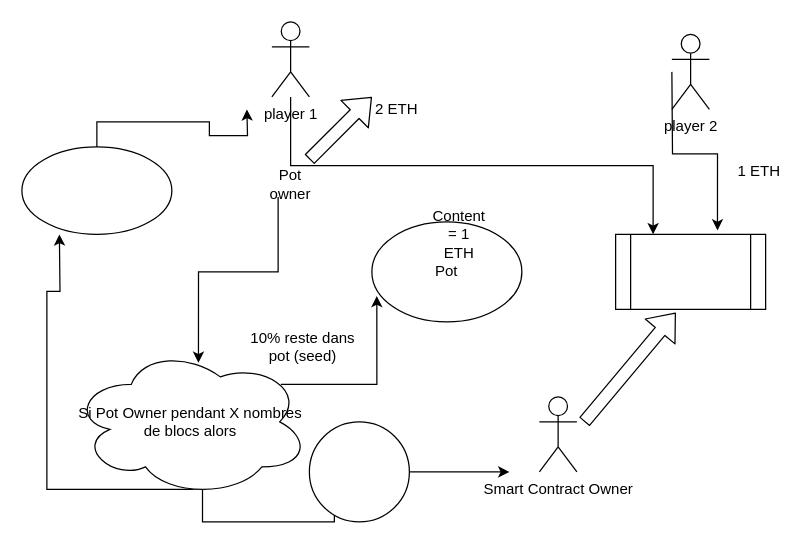
Some shapes in this 806 by 554 pixel diagram are drawn without their labels. Each missing label, with the centre of its shape:
Contract 0x01: the point at 690,271
Send 10% de Pot: the point at 358,471
Send 80% de Pot: the point at 96,190
